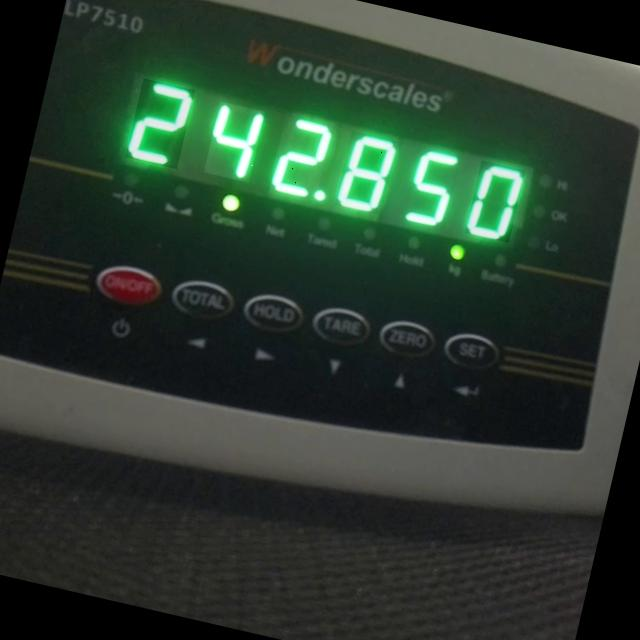.: (312, 188, 326, 202)
0: (464, 160, 524, 242)
2: (124, 78, 194, 169), (267, 111, 333, 204)
4: (203, 101, 264, 182)
5: (400, 146, 460, 230)
8: (334, 130, 398, 215)
